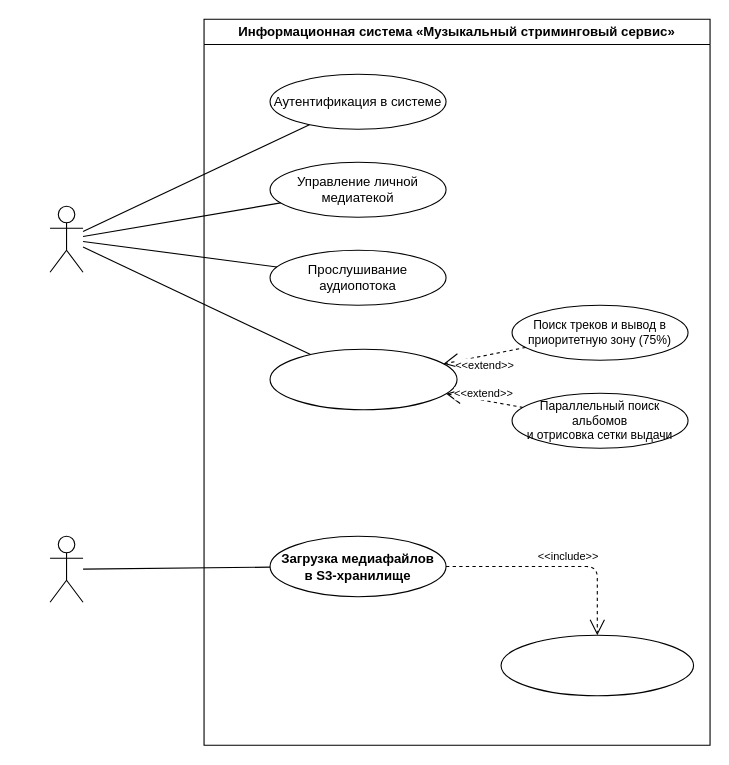
This 729x765 diagram has some shape labels left out. Here are the shapes that lost their labels. From the top down, the centre of each, then its label:
pixel 66 238: Пользователь
pixel 363 379: Выполнение глобального поиска
pixel 66 568: Администратор
pixel 597 665: Автоматический цифровой анализ сигнала и расчет BPM
